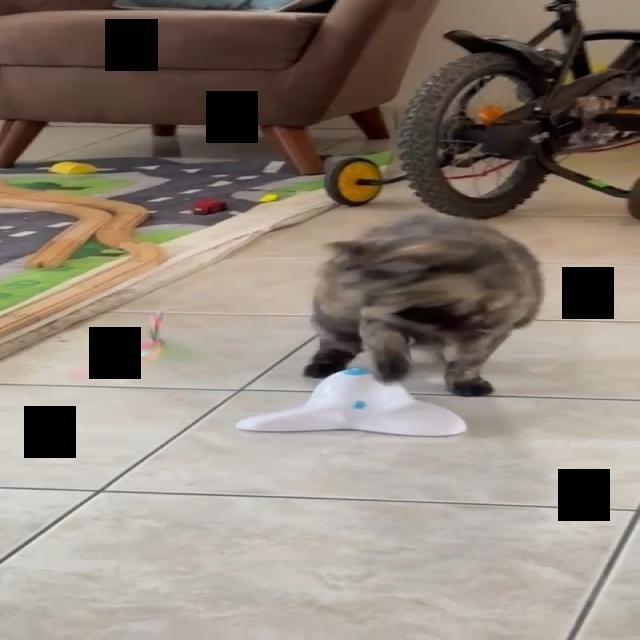authorized: (301, 213, 544, 396)
